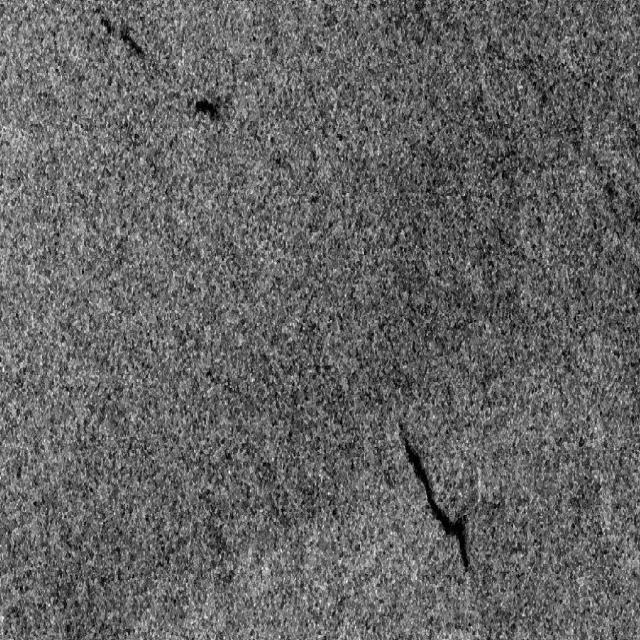oil-spill: (395, 412, 482, 582), (98, 7, 156, 78), (183, 62, 239, 132)
